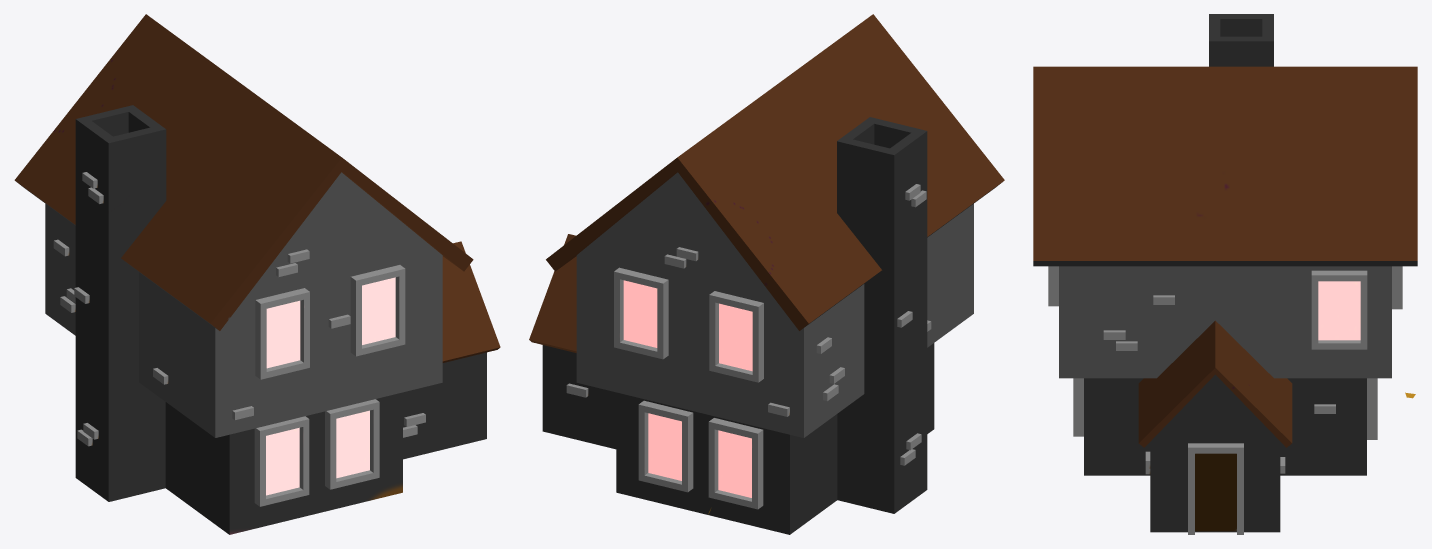
File: Build_1.fbx
3 views of the same model, side by side, from view 1: azimuth 30°, elevation 25°; view 2: azimuth 150°, elevation 25°; view 3: azimuth 270°, elevation 25° (orthographic). The views are drawn at different scales.
Parts seen in each view (by area): view 1: No_Madness.023; view 2: No_Madness.023; view 3: No_Madness.023.
Boxes of the visible parts, x1,y1,x2,y2 form: No_Madness.023: [14, 14, 500, 534]; No_Madness.023: [529, 14, 1004, 534]; No_Madness.023: [1033, 14, 1417, 534].
Bounding box in the file's own units: 4.17 × 4.13 × 3.91.
